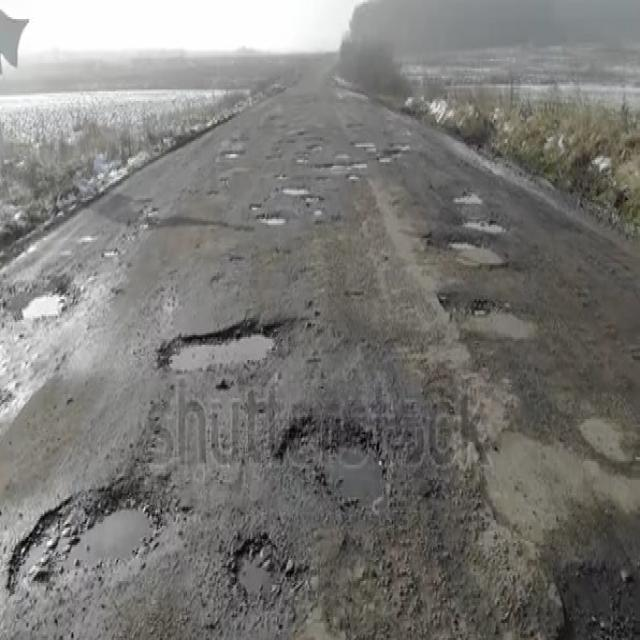pothole: (9, 462, 171, 597), (272, 404, 398, 514), (160, 305, 290, 380), (226, 534, 288, 607), (428, 234, 513, 278), (433, 283, 504, 334), (246, 199, 290, 232), (463, 213, 508, 231)
